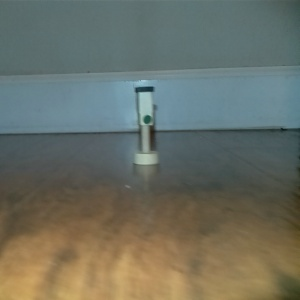traffic light green: (133, 85, 158, 168)
